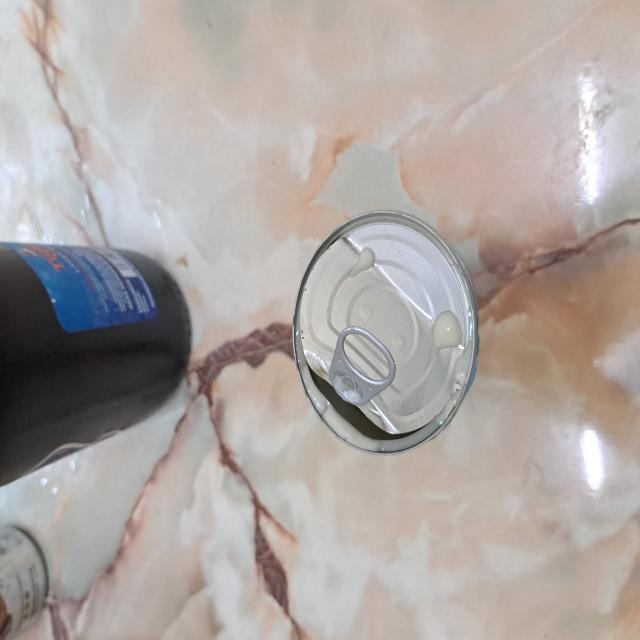can: (290, 209, 480, 457)
glass bottle: (0, 238, 193, 486)
pop tab: (328, 323, 400, 407)
